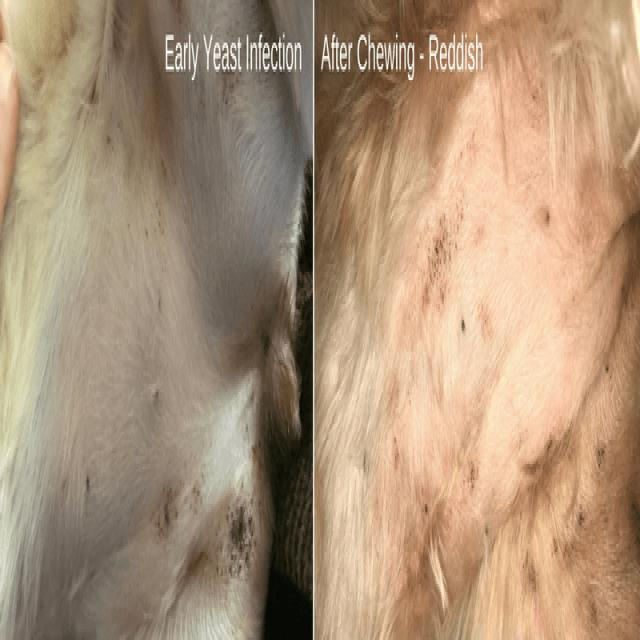fungal infection: (406, 115, 480, 334), (148, 437, 215, 546), (552, 452, 587, 577), (224, 460, 260, 574), (78, 42, 106, 144), (454, 441, 484, 523), (621, 470, 640, 590), (519, 509, 541, 612), (142, 194, 171, 242), (112, 0, 131, 70), (595, 423, 608, 488), (538, 198, 554, 245)
